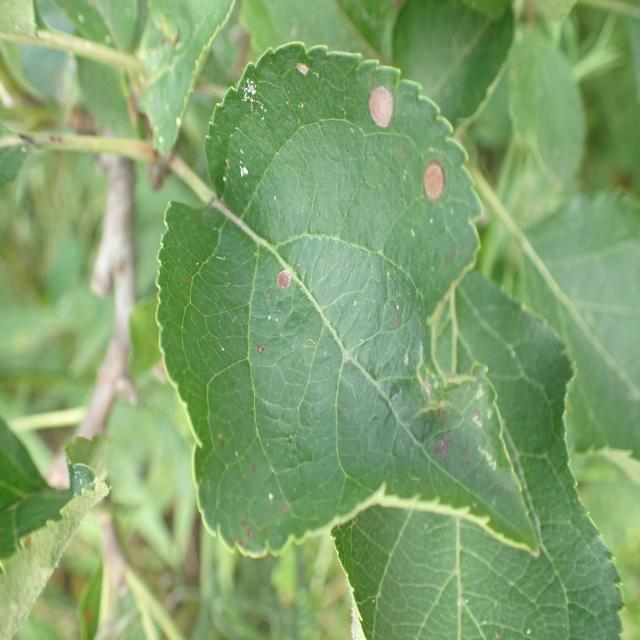frog-eye-leaf-spot: (152, 44, 540, 560)
